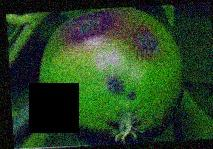rotten apple: (38, 8, 186, 143)
